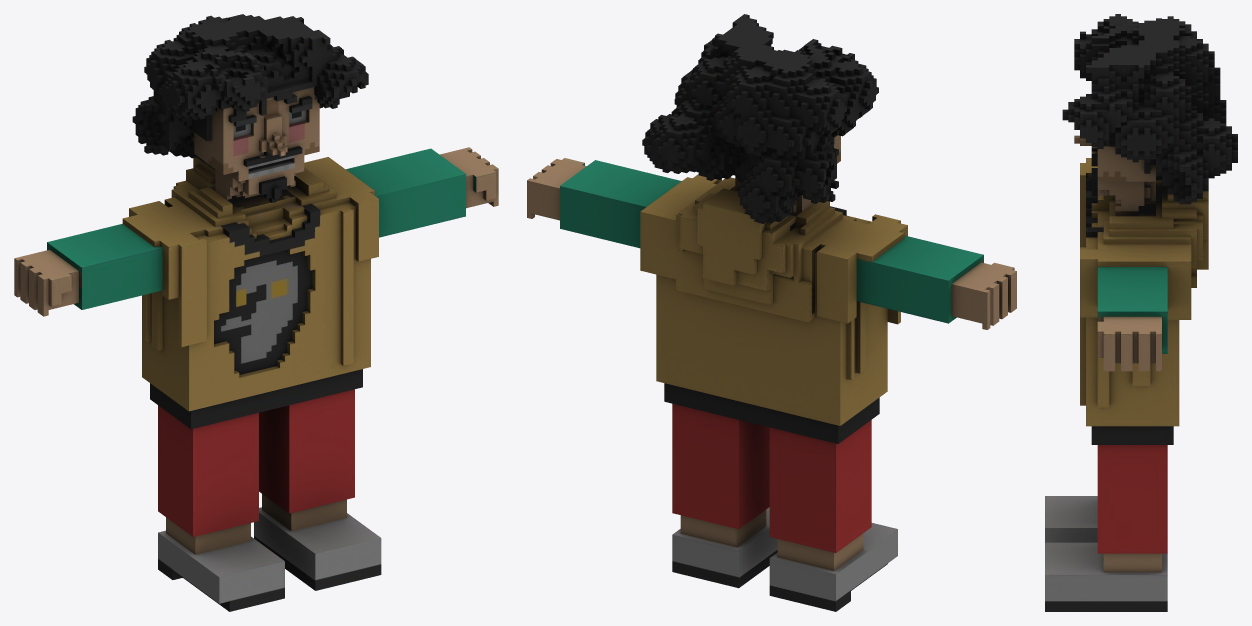
Rendered from artist.glb.
The picture shows the model from 3 angles, left to right: view 1: azimuth 30°, elevation 25°; view 2: azimuth 150°, elevation 25°; view 3: azimuth 270°, elevation 25°; orthographic projection.
Visible parts, largest first — view 1: Painter.001; view 2: Painter.001; view 3: Painter.001.
Boxes of the visible parts, left/top/right/bottom form: Painter.001: left=14, top=14, right=498, bottom=611; Painter.001: left=527, top=14, right=1016, bottom=611; Painter.001: left=1045, top=14, right=1237, bottom=611.
Bounding box in the file's own units: 1.79 × 1.99 × 0.6579.
Materials: 1 (1 with a texture image).
